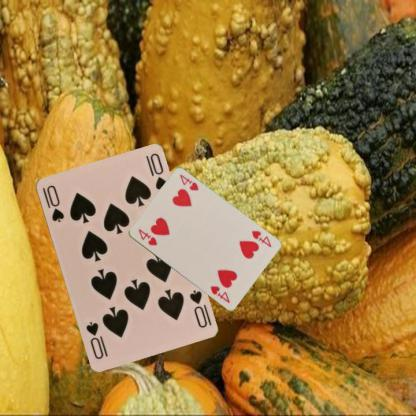10s: (40, 182, 66, 224), (186, 287, 209, 329)
4h: (249, 228, 273, 248), (136, 226, 158, 247)
